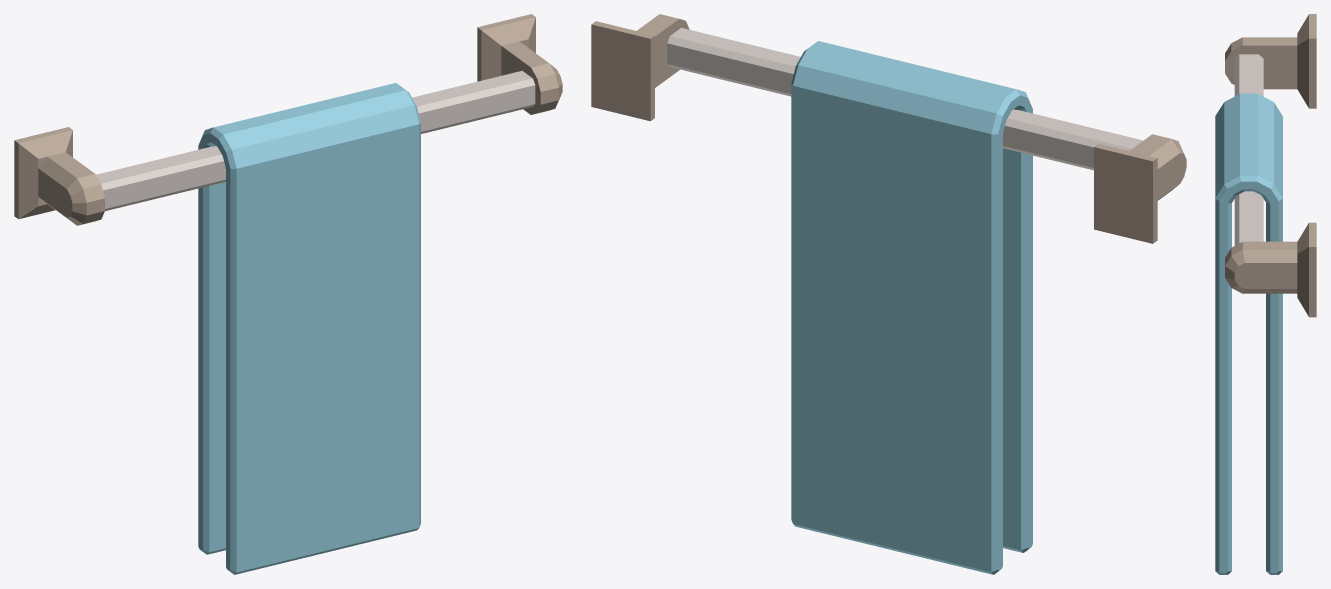
File: Prop_Bathroom_Towel_Rack_Stocked.obj
3 renders of one model, left to right at view 1: azimuth 30°, elevation 25°; view 2: azimuth 150°, elevation 25°; view 3: azimuth 270°, elevation 25°, orthographic. The views are drawn at different scales.
Parts seen in each view (by area): view 1: object2, object1; view 2: object2, object1; view 3: object2, object1.
Part boxes in pixels (left/top/right/bottom): object2: left=198, top=83, right=420, bottom=574; object1: left=14, top=14, right=562, bottom=225; object2: left=791, top=41, right=1032, bottom=574; object1: left=591, top=14, right=1186, bottom=243; object2: left=1215, top=93, right=1282, bottom=574; object1: left=1225, top=14, right=1316, bottom=317.
Bounding box in the file's own units: 0.7125 × 0.575 × 0.1312.
